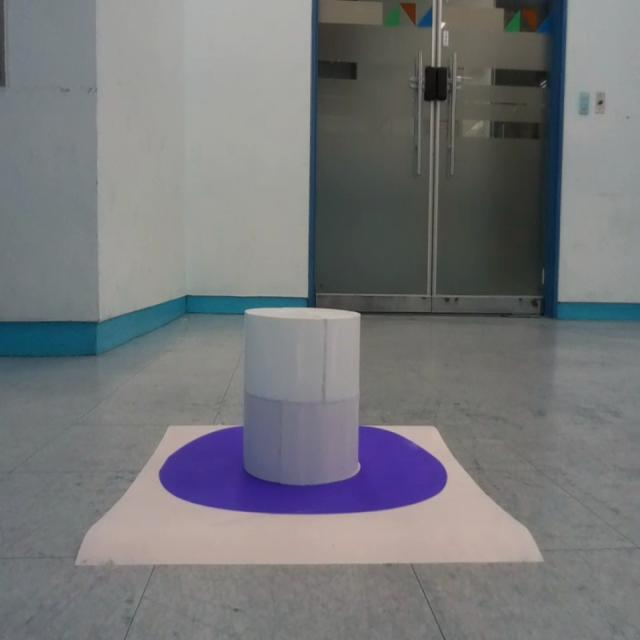cylinder: (242, 306, 362, 486)
